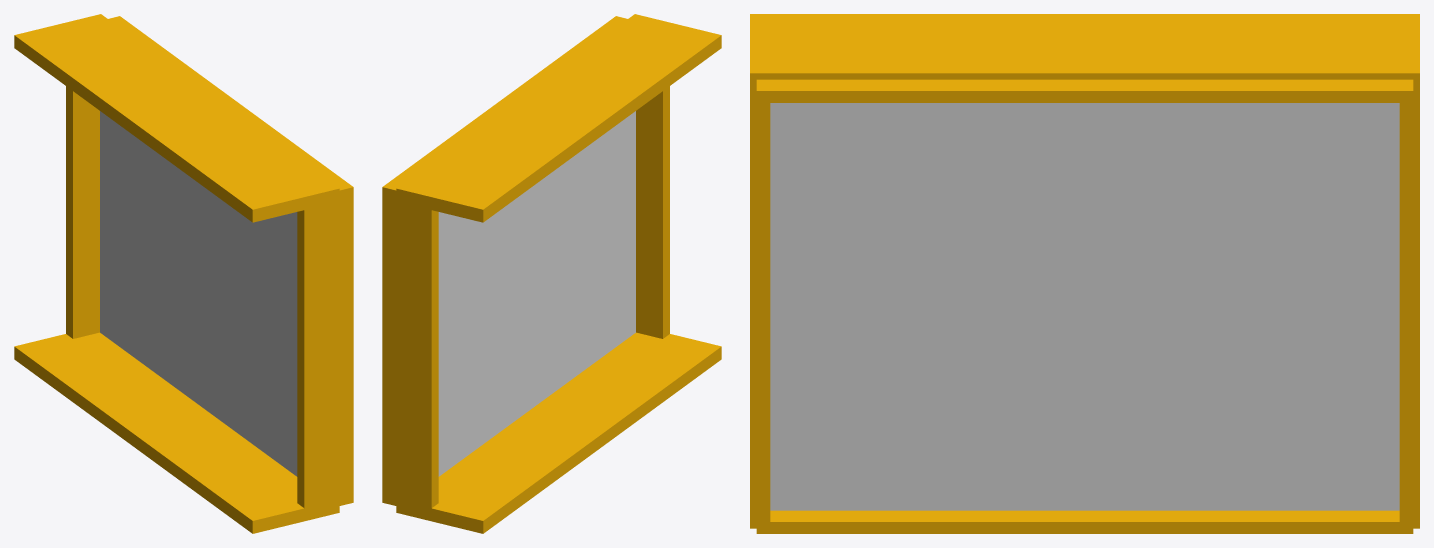
Rendered from curtain_wall_4x1x3.dae.
3 views of the same model, side by side, from view 1: azimuth 30°, elevation 25°; view 2: azimuth 150°, elevation 25°; view 3: azimuth 270°, elevation 25° (orthographic). The views are drawn at different scales.
Visible parts, largest first — view 1: Cube; view 2: Cube; view 3: Cube.
Part boxes in pixels (x1,y1,x2,y2): Cube: (14,14,353,533); Cube: (382,14,721,533); Cube: (750,14,1419,533).
Bounding box in the file's own units: 0.25 × 1 × 0.75.
